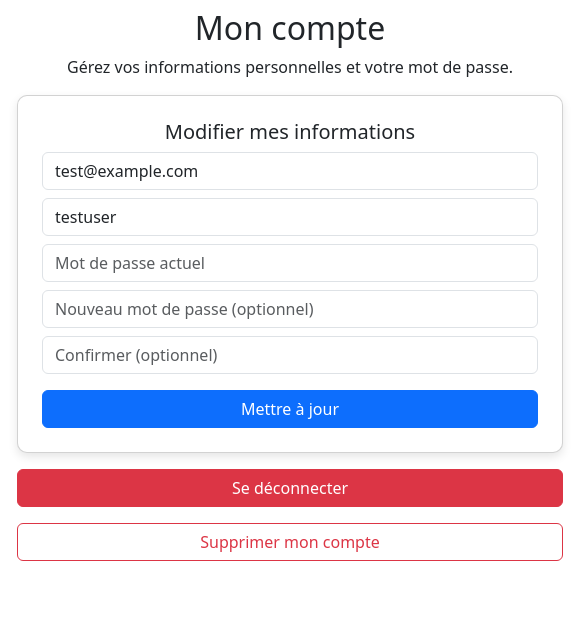
AccountView › supprime le compte utilisateur avec succès et redirige
This screenshot has width=581, height=617.
Click the button with class "btn-outline-danger" at (290, 542), box [17,523,563,561]
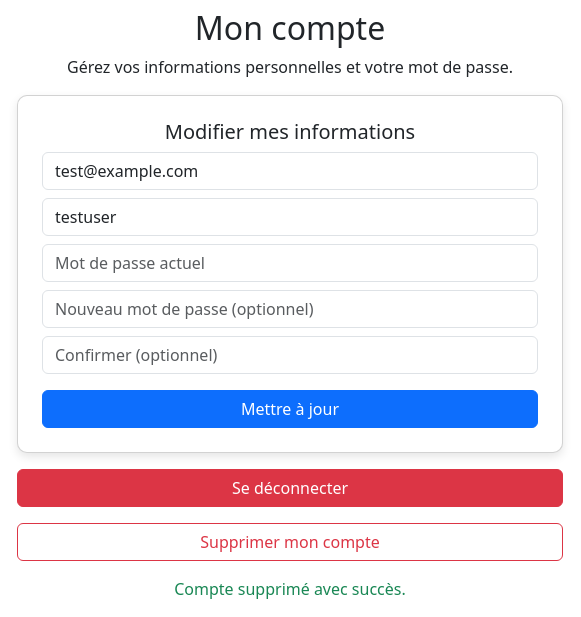
Check: the text "Compte supprimé avec succès." is shown, box [174,578,406,600]
